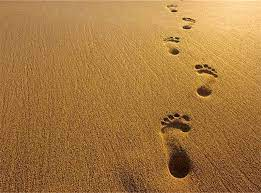human_foot_print: (131, 0, 231, 186)
